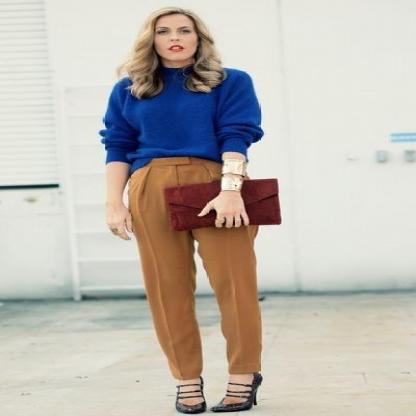bag: (164, 175, 280, 236)
jacket: (99, 69, 261, 174)
pants: (119, 156, 262, 374)
shoe: (170, 369, 256, 412)
